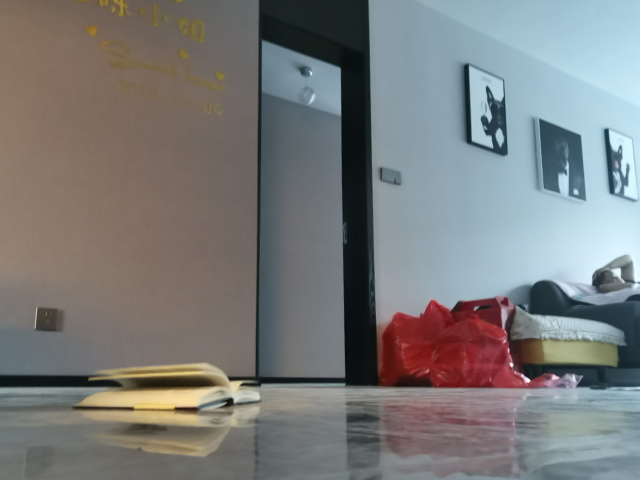book: (67, 361, 266, 416)
sofa: (500, 276, 640, 389)
